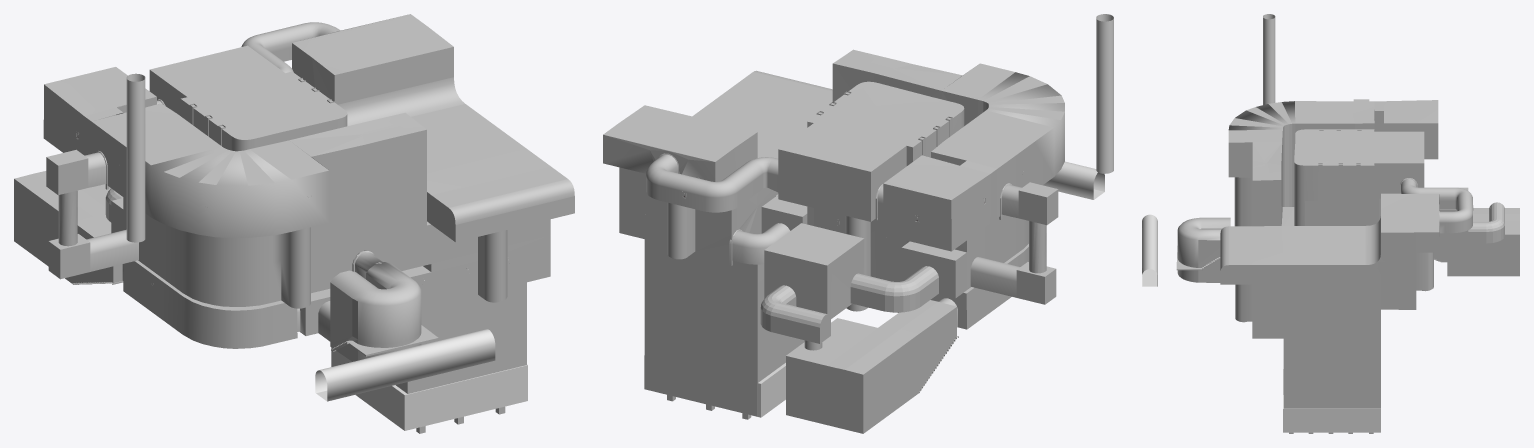
3 renders of one model, left to right at view 1: azimuth 30°, elevation 25°; view 2: azimuth 150°, elevation 25°; view 3: azimuth 270°, elevation 25°, orthographic. The views are drawn at different scales.
Parts seen in each view (by area): view 1: Polygon, Cylinder002, DeathZone1, Cylinder004; view 2: Polygon, Cylinder004, Cylinder002, DeathZone1; view 3: Polygon, DeathZone1, Cylinder004, Cylinder002.
Part boxes in pixels (x1,y1,x2,y2): Polygon: (14,14,574,433); Cylinder002: (315,329,495,401); DeathZone1: (331,347,527,430); Cylinder004: (126,73,145,242); Polygon: (603,49,1064,433); Cylinder004: (1096,14,1113,173); Cylinder002: (1043,161,1104,199); DeathZone1: (644,355,785,417); Polygon: (1176,99,1519,433); DeathZone1: (1283,369,1380,432); Cylinder004: (1263,14,1275,104); Cylinder002: (1142,214,1157,286).
Size of what is drawn, in the model's own units: 32.45 by 32.73 by 38.31.
